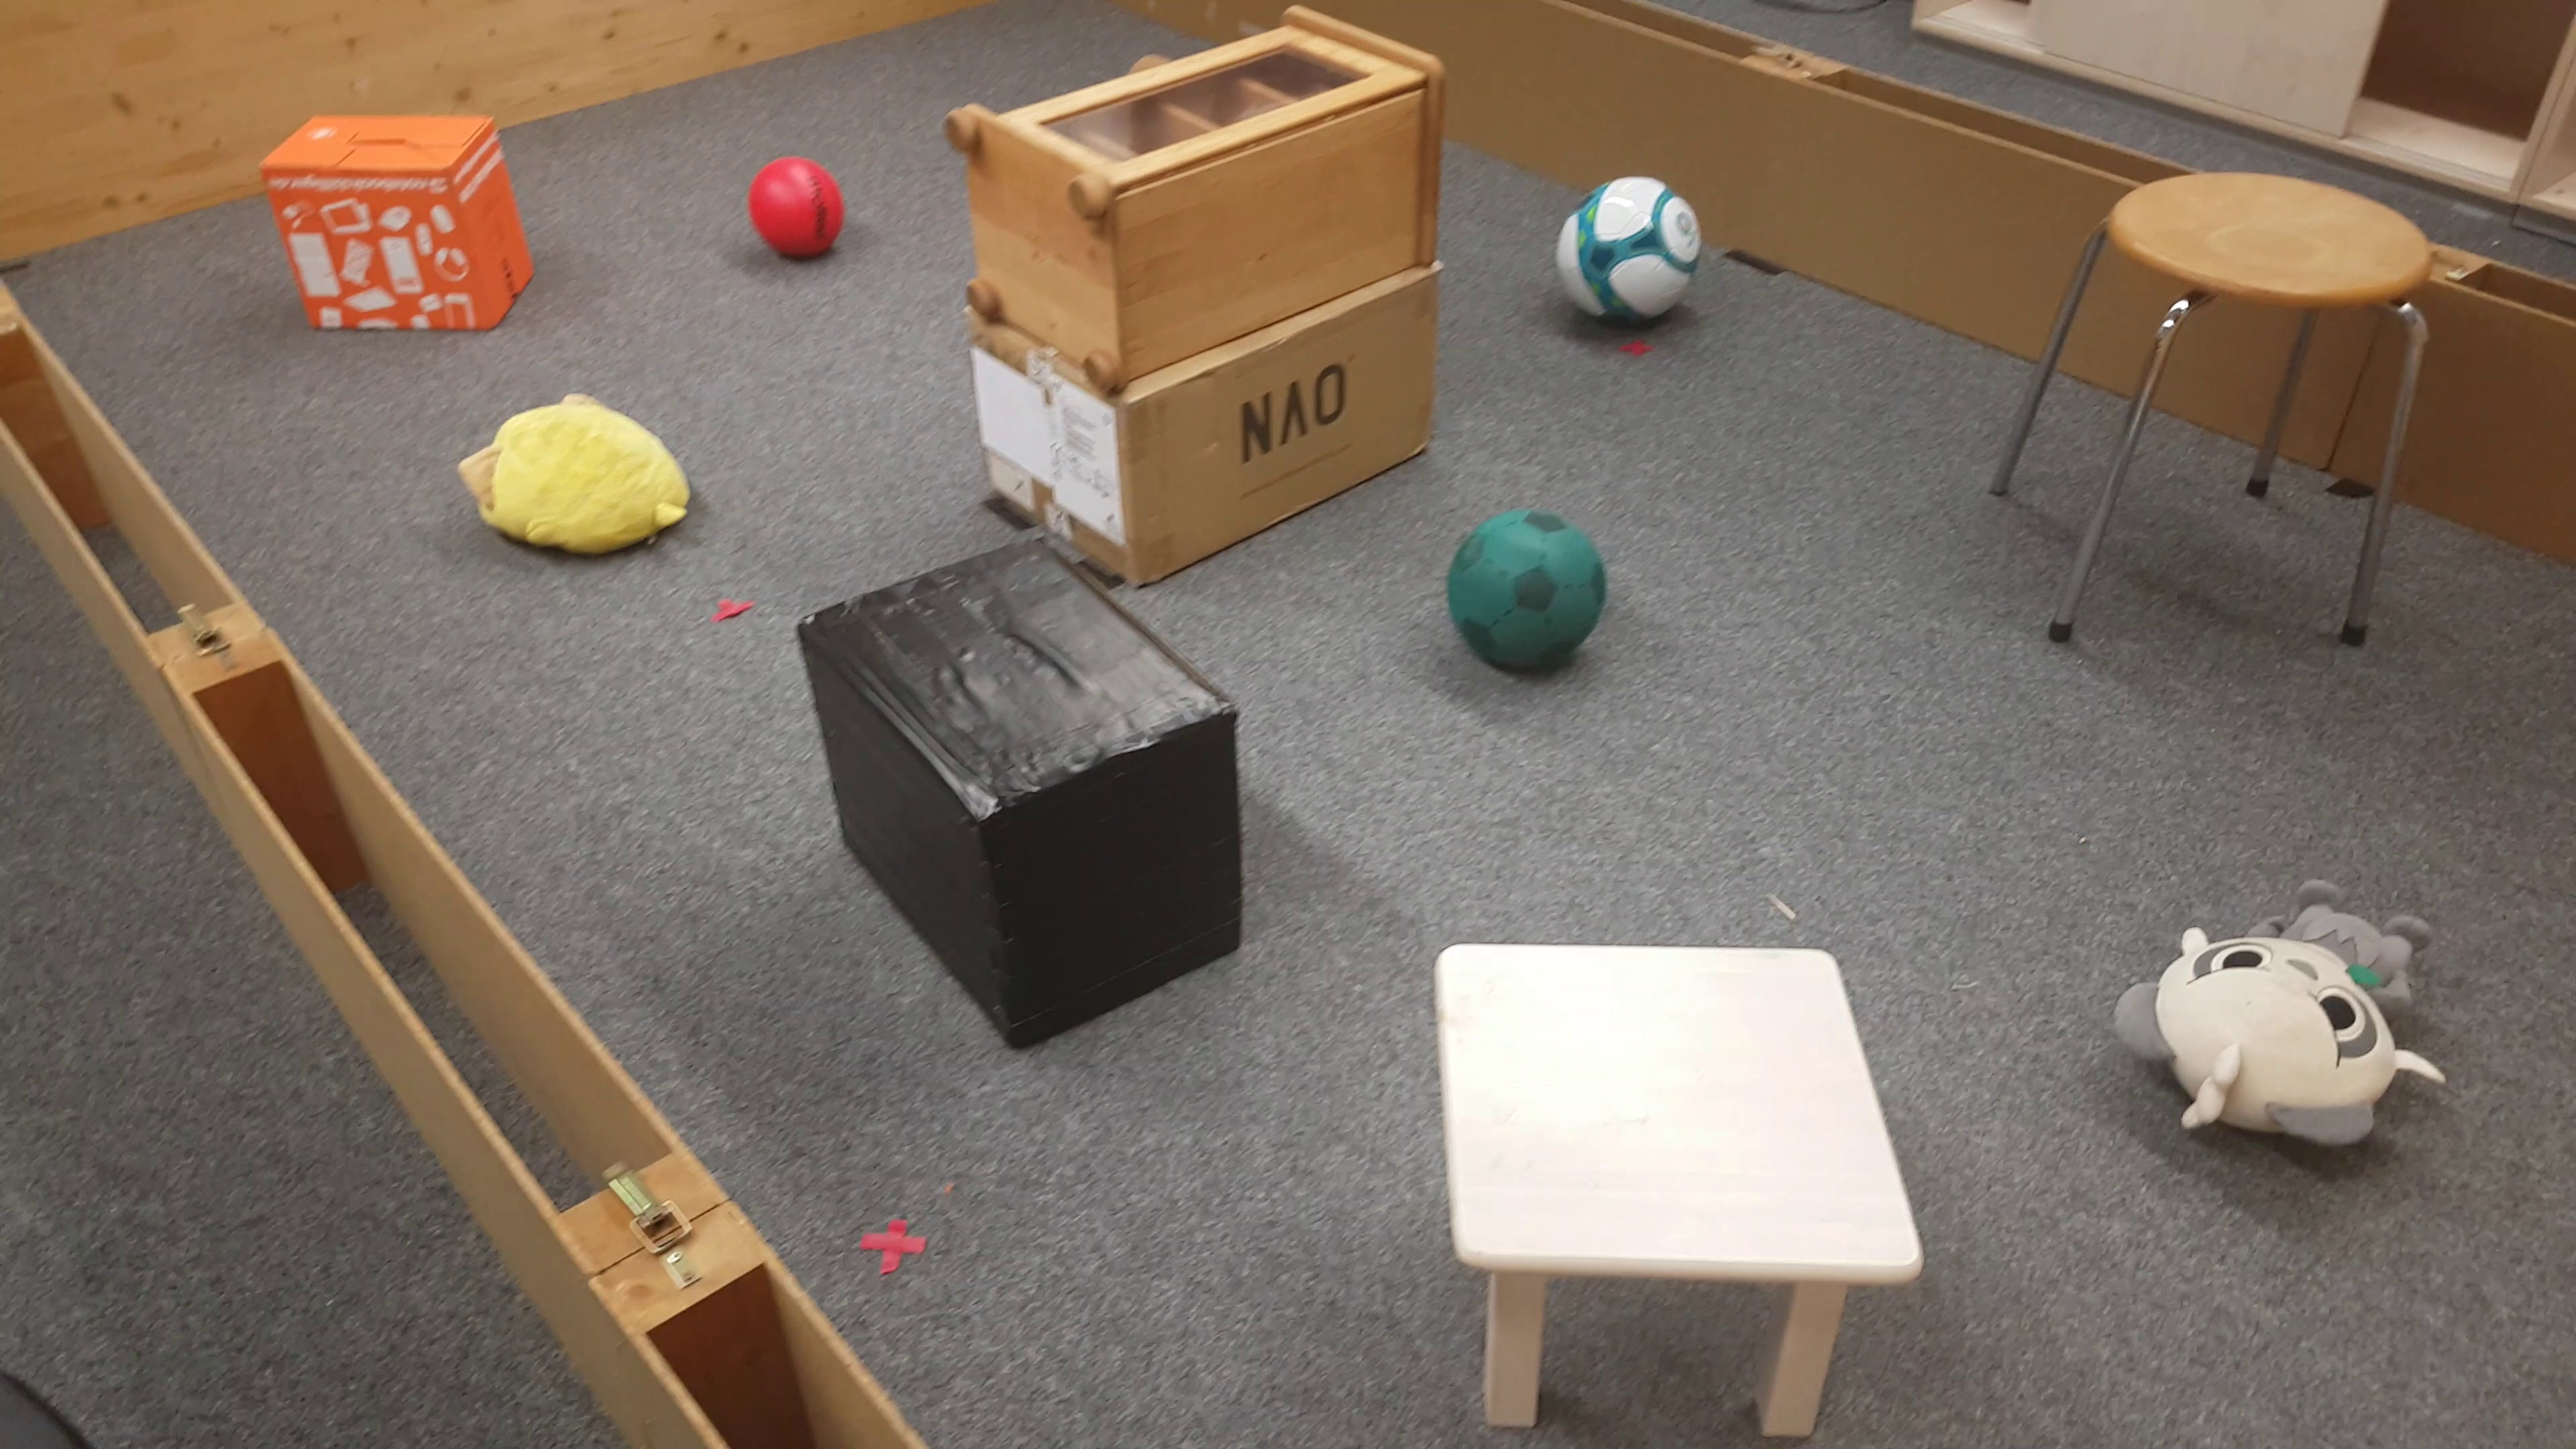grasp: (2114, 874, 2449, 1162), (456, 393, 695, 561)
kick: (1453, 502, 1603, 686), (1562, 173, 1700, 350), (750, 159, 844, 253)
push: (794, 533, 1246, 1042), (258, 111, 536, 338)
